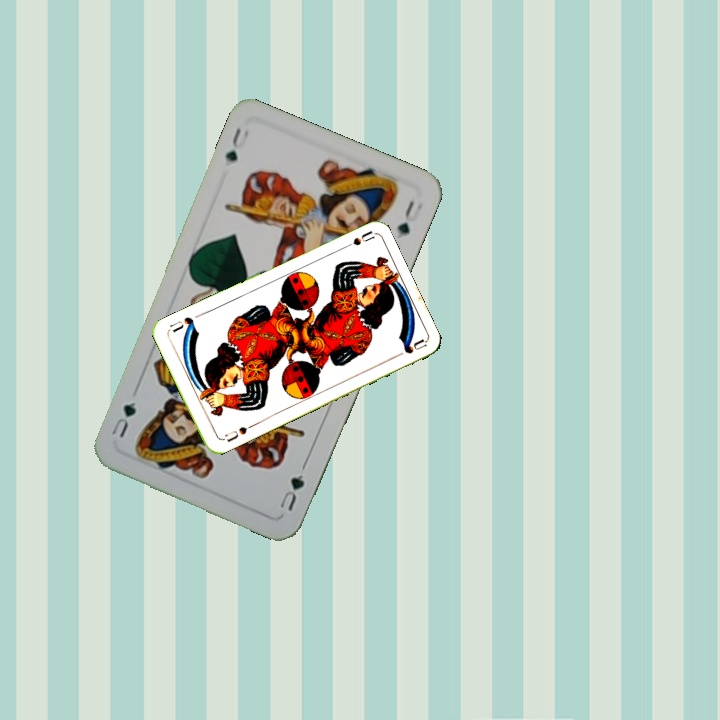GU: (275, 469, 307, 514), (221, 123, 252, 165)
SU: (336, 227, 376, 253), (218, 420, 256, 444)
